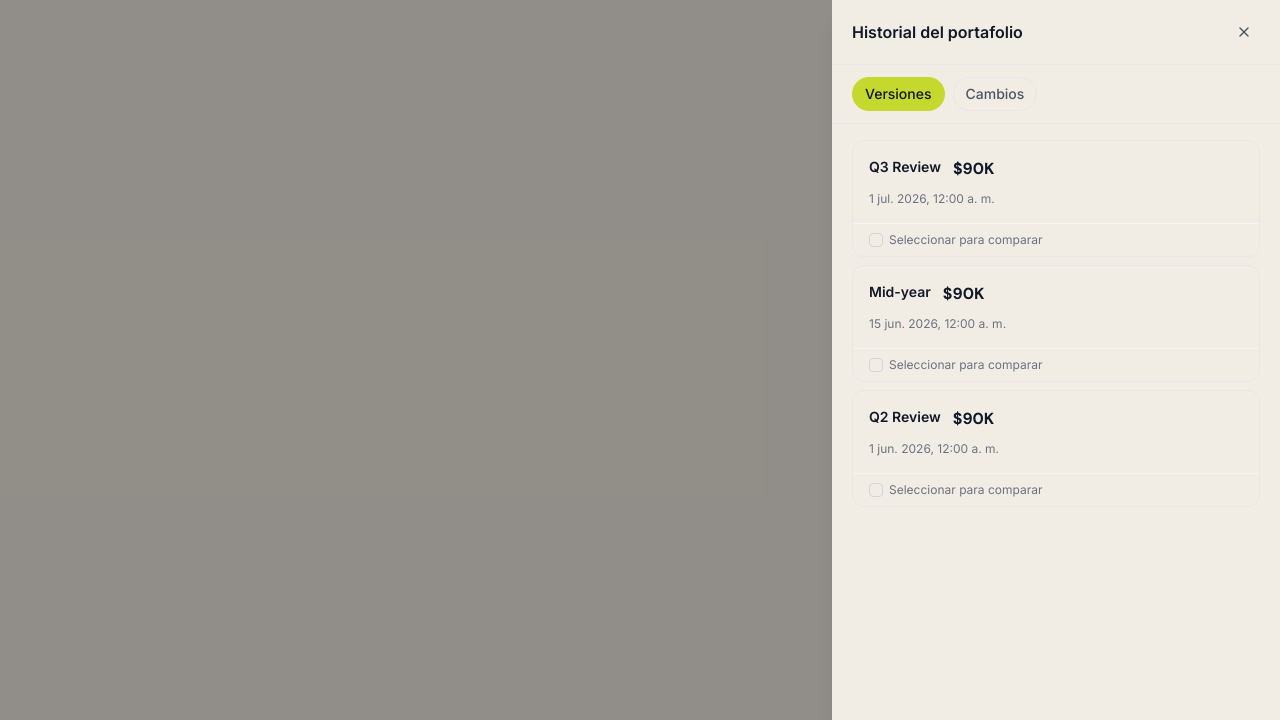
Scenario: VersioningDrawer — snapshot timeline (SNAP-008) › selecting a snapshot opens a read-only detail view with no edit/delete controls
Click the text "Q3 Review".
click(905, 167)  # box [869, 157, 941, 177]
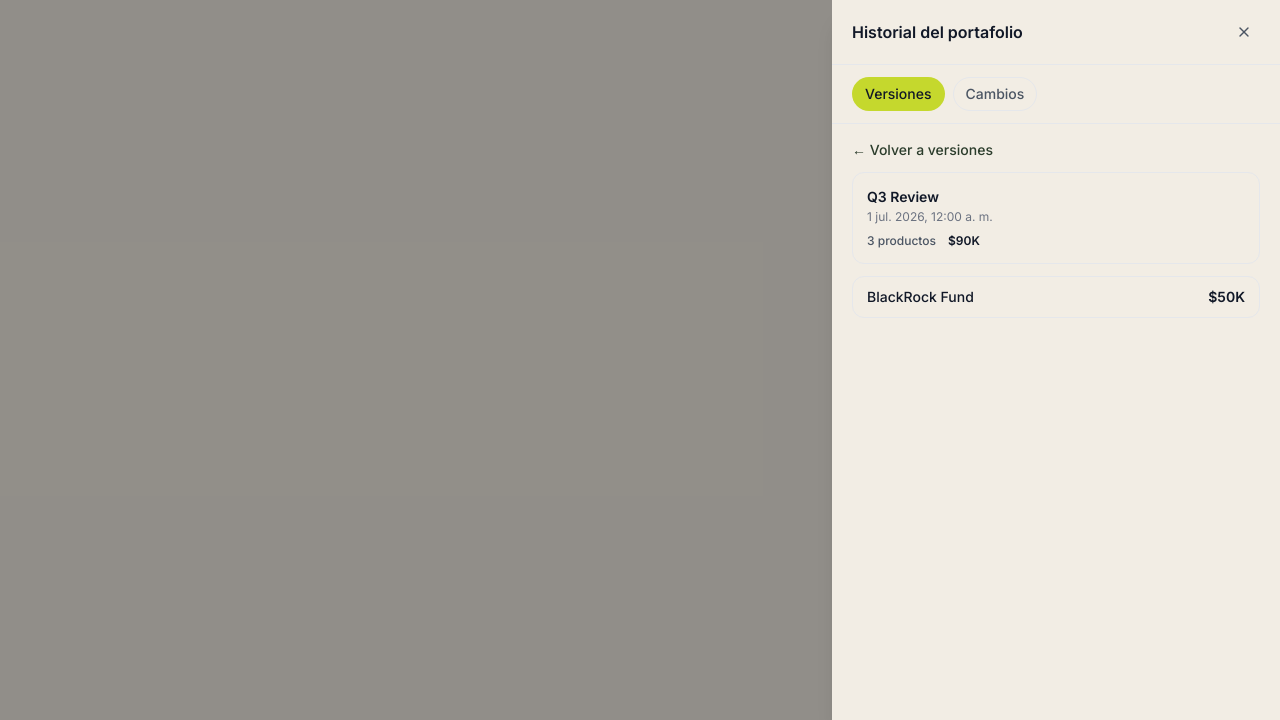
Result: the list with test id "snapshot-detail-products" is shown at [852, 276, 1260, 318]
Result: the text "BlackRock Fund" is shown at [867, 287, 974, 307]
